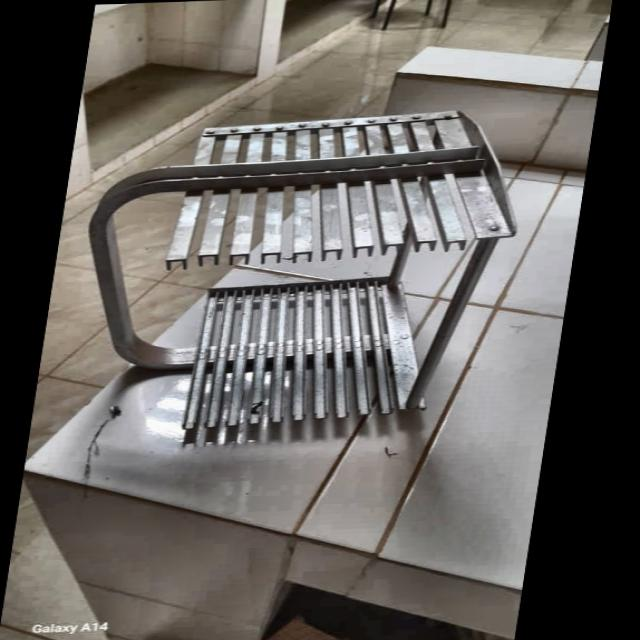Plate Rack: (54, 100, 544, 448)
